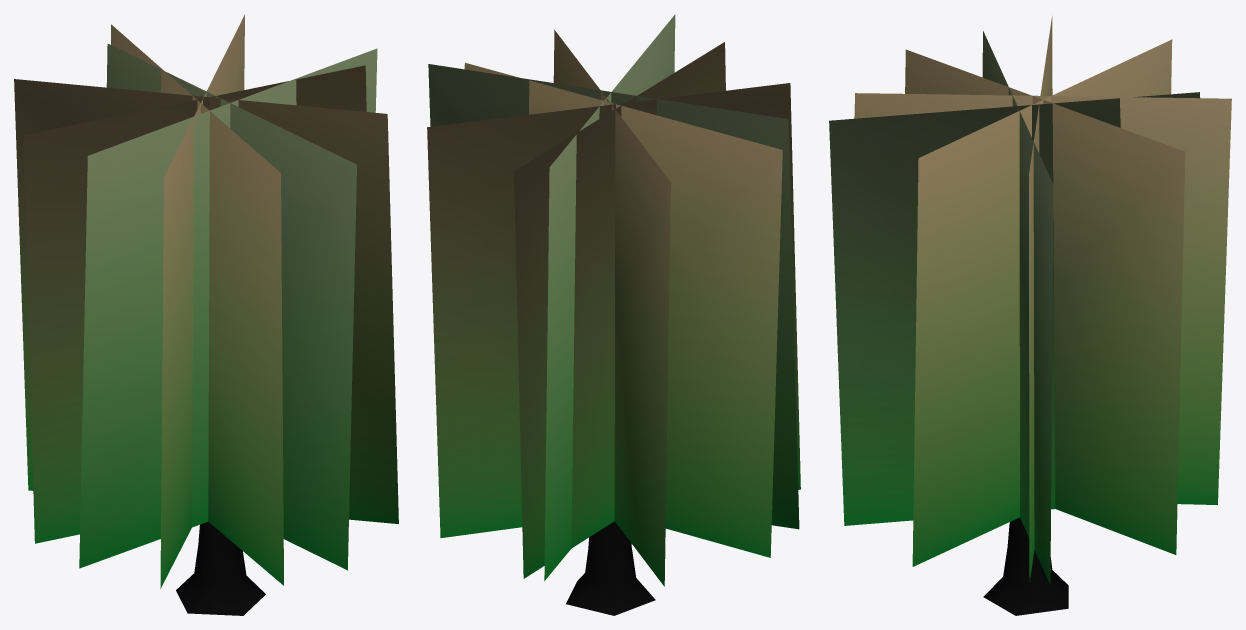
The model's file is Super_Palm_5.fbx.
3 views of the same model, side by side, from view 1: azimuth 30°, elevation 25°; view 2: azimuth 150°, elevation 25°; view 3: azimuth 270°, elevation 25° (orthographic).
Visible parts, largest first — view 1: Tree_5; view 2: Tree_5; view 3: Tree_5.
Boxes of the visible parts, x1=… form: Tree_5: x1=14, y1=14, x2=398, y2=615; Tree_5: x1=427, y1=14, x2=800, y2=615; Tree_5: x1=829, y1=16, x2=1231, y2=615.
Size of the model in its own units: 536 by 724 by 534.
